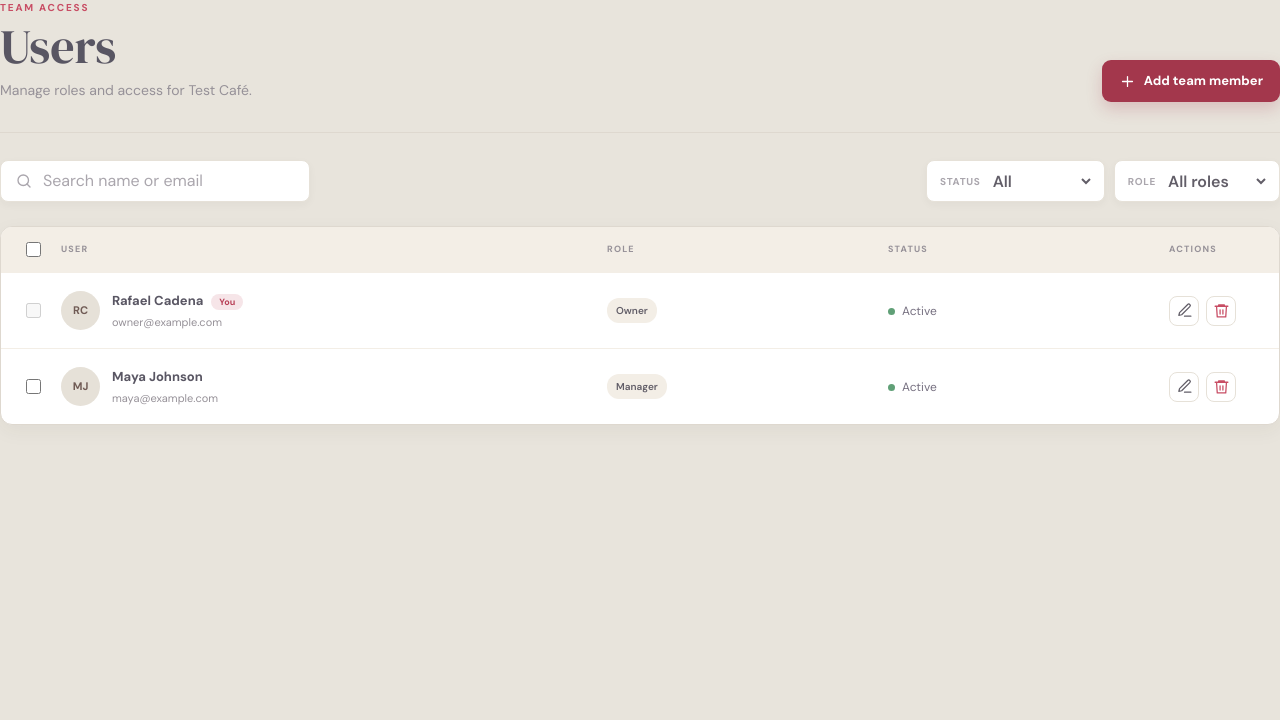
Test: UsersPage › opens the add-by-email dialog without password fields
The image size is (1280, 720).
Click the button "Add team member" at [1191, 81], box [1102,60,1279,102]
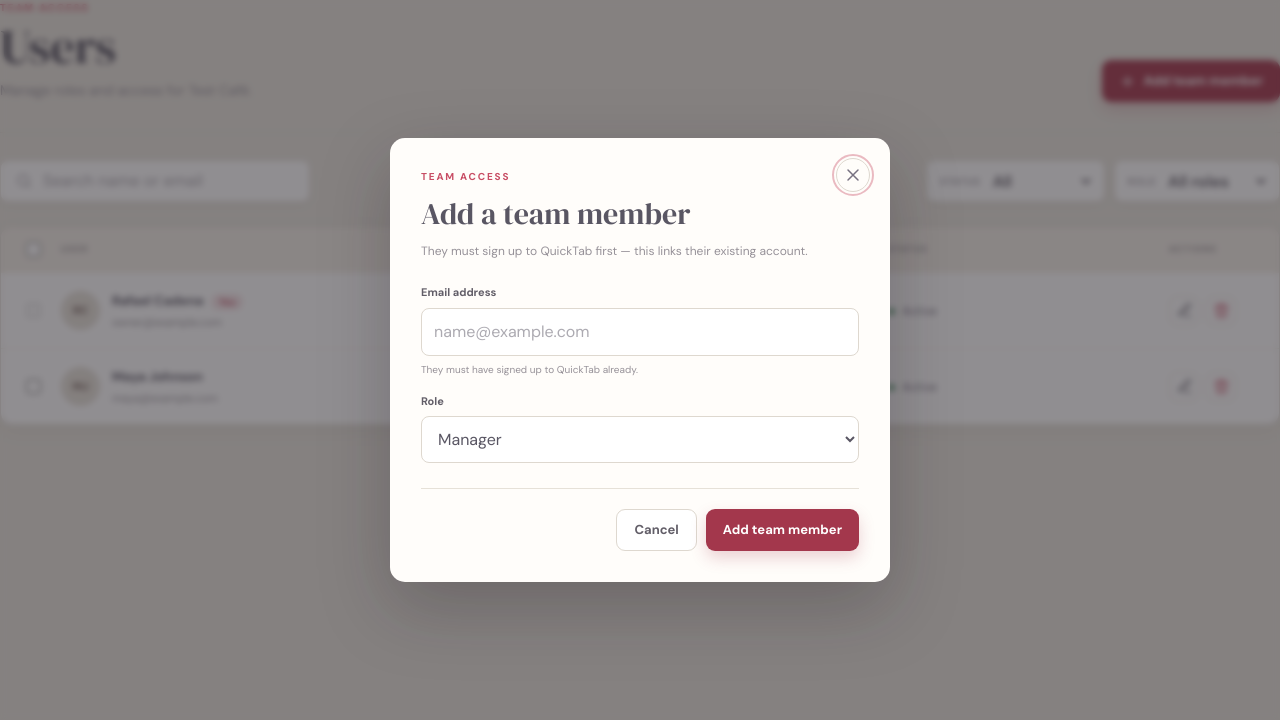
Check: the field labelled "Email address They must have signed up to QuickTab already." is shown, box [421,308,859,356]
Check: the text "They must have signed up to QuickTab already." is shown, box [421,362,638,376]
